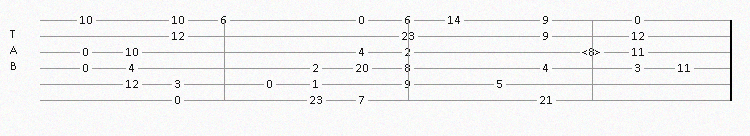0: (82, 62, 93, 74), (82, 46, 93, 58), (174, 94, 185, 106), (266, 78, 277, 90), (358, 14, 369, 26), (634, 14, 645, 26)
1: (312, 78, 323, 90)
10: (79, 14, 97, 26), (125, 46, 143, 58), (171, 14, 189, 26)
11: (631, 46, 649, 58), (677, 62, 695, 74)
12: (125, 78, 143, 90), (171, 30, 189, 42), (631, 30, 649, 42)
14: (447, 14, 465, 26)
2: (312, 62, 323, 74), (404, 46, 415, 58)
20: (355, 62, 373, 74)
21: (539, 94, 557, 106)
23: (309, 94, 327, 106), (401, 30, 419, 42)
3: (174, 78, 185, 90), (634, 62, 645, 74)
4: (128, 62, 139, 74), (358, 46, 369, 58), (542, 62, 553, 74)
5: (496, 78, 507, 90)
6: (220, 14, 231, 26), (404, 14, 415, 26)
7: (358, 94, 369, 106)
8: (404, 62, 415, 74)
9: (404, 78, 415, 90), (542, 30, 553, 42), (542, 14, 553, 26)
harmonic: (582, 46, 605, 58)
